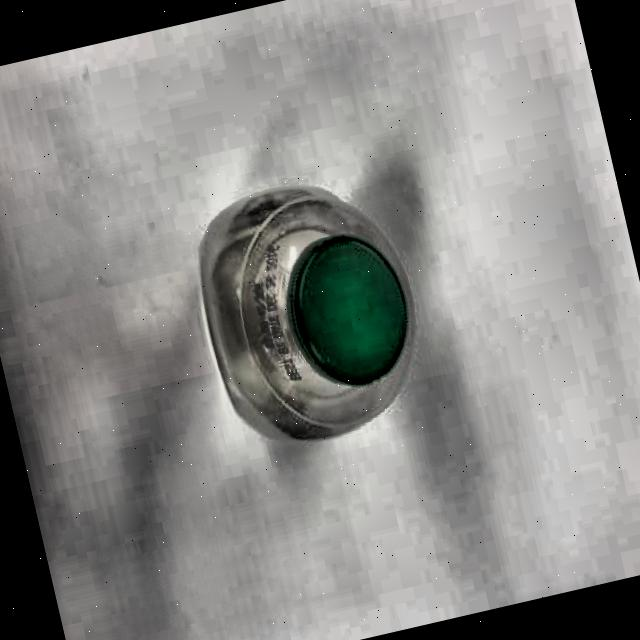plastic: (181, 163, 439, 460)
